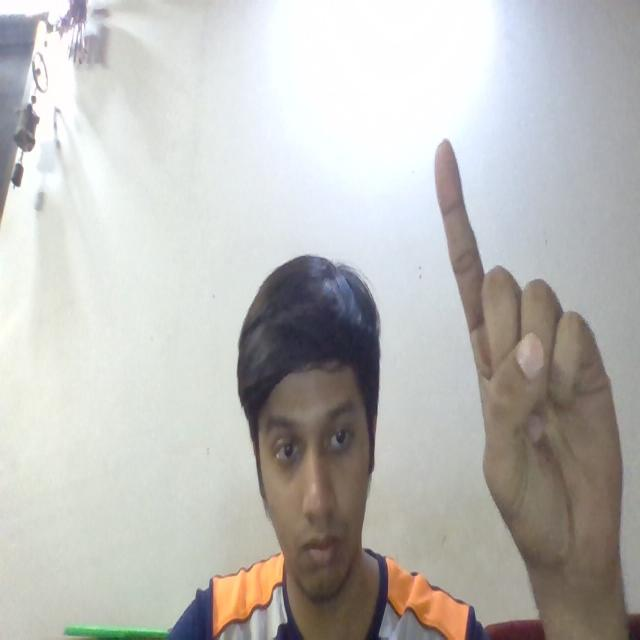Z: (418, 126, 640, 613)
